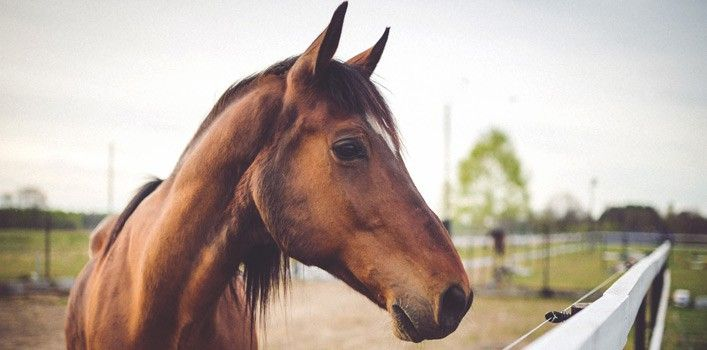horse: (53, 4, 474, 350)
